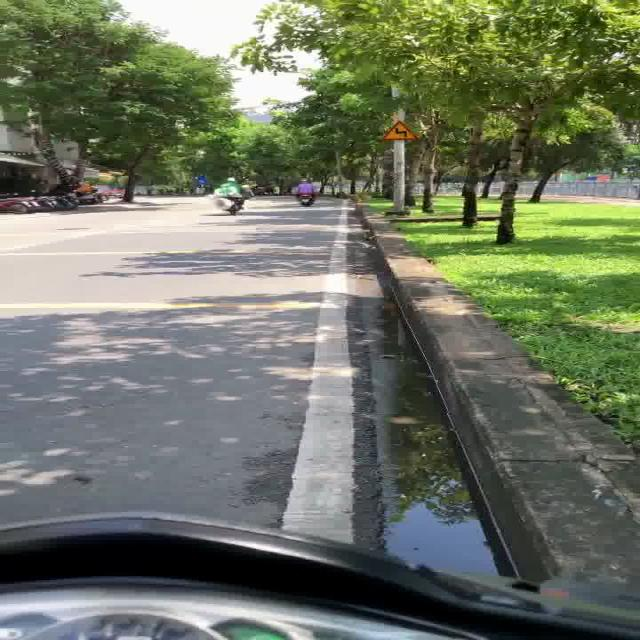Bien bao nhieu cho ngoat nguy hiem lien tiep: (377, 118, 426, 144)
